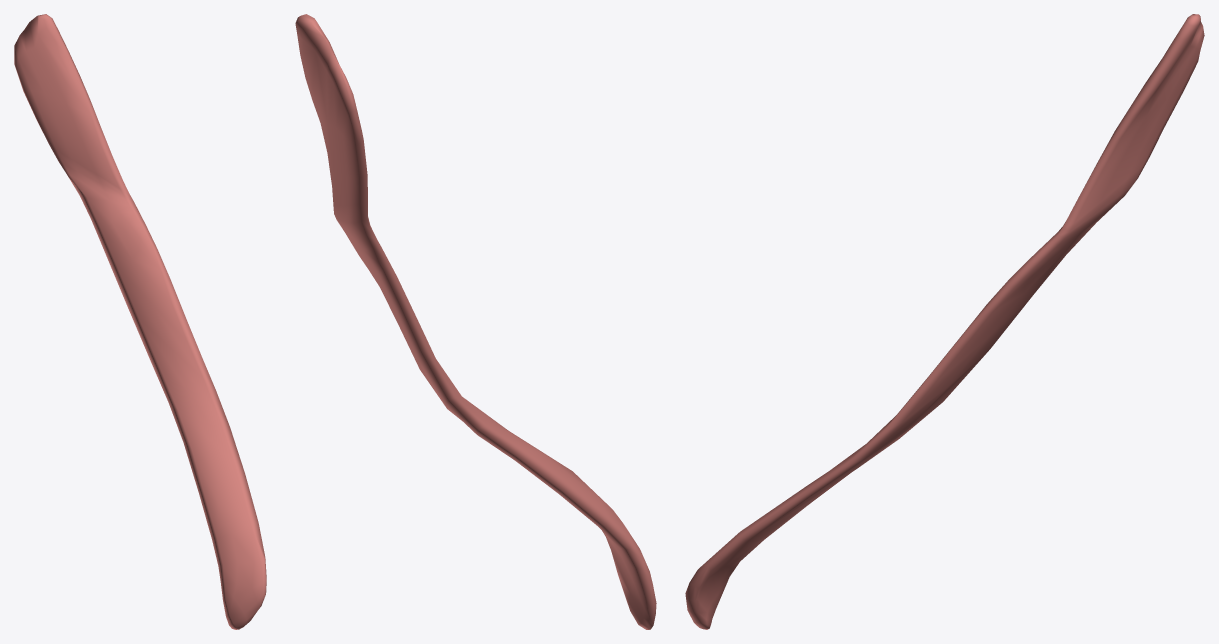
3 renders of one model, left to right at view 1: azimuth 30°, elevation 25°; view 2: azimuth 150°, elevation 25°; view 3: azimuth 270°, elevation 25°, orthographic. The views are drawn at different scales.
Parts seen in each view (by area): view 1: ZA_0d4f23e3f03a2456; view 2: ZA_0d4f23e3f03a2456; view 3: ZA_0d4f23e3f03a2456.
Part boxes in pixels (<box>): ZA_0d4f23e3f03a2456: <box>14,14,266,629</box>; ZA_0d4f23e3f03a2456: <box>295,14,656,629</box>; ZA_0d4f23e3f03a2456: <box>685,14,1204,629</box>.
Size of the model in its own units: 0.00383 by 0.0221 by 0.0169.
